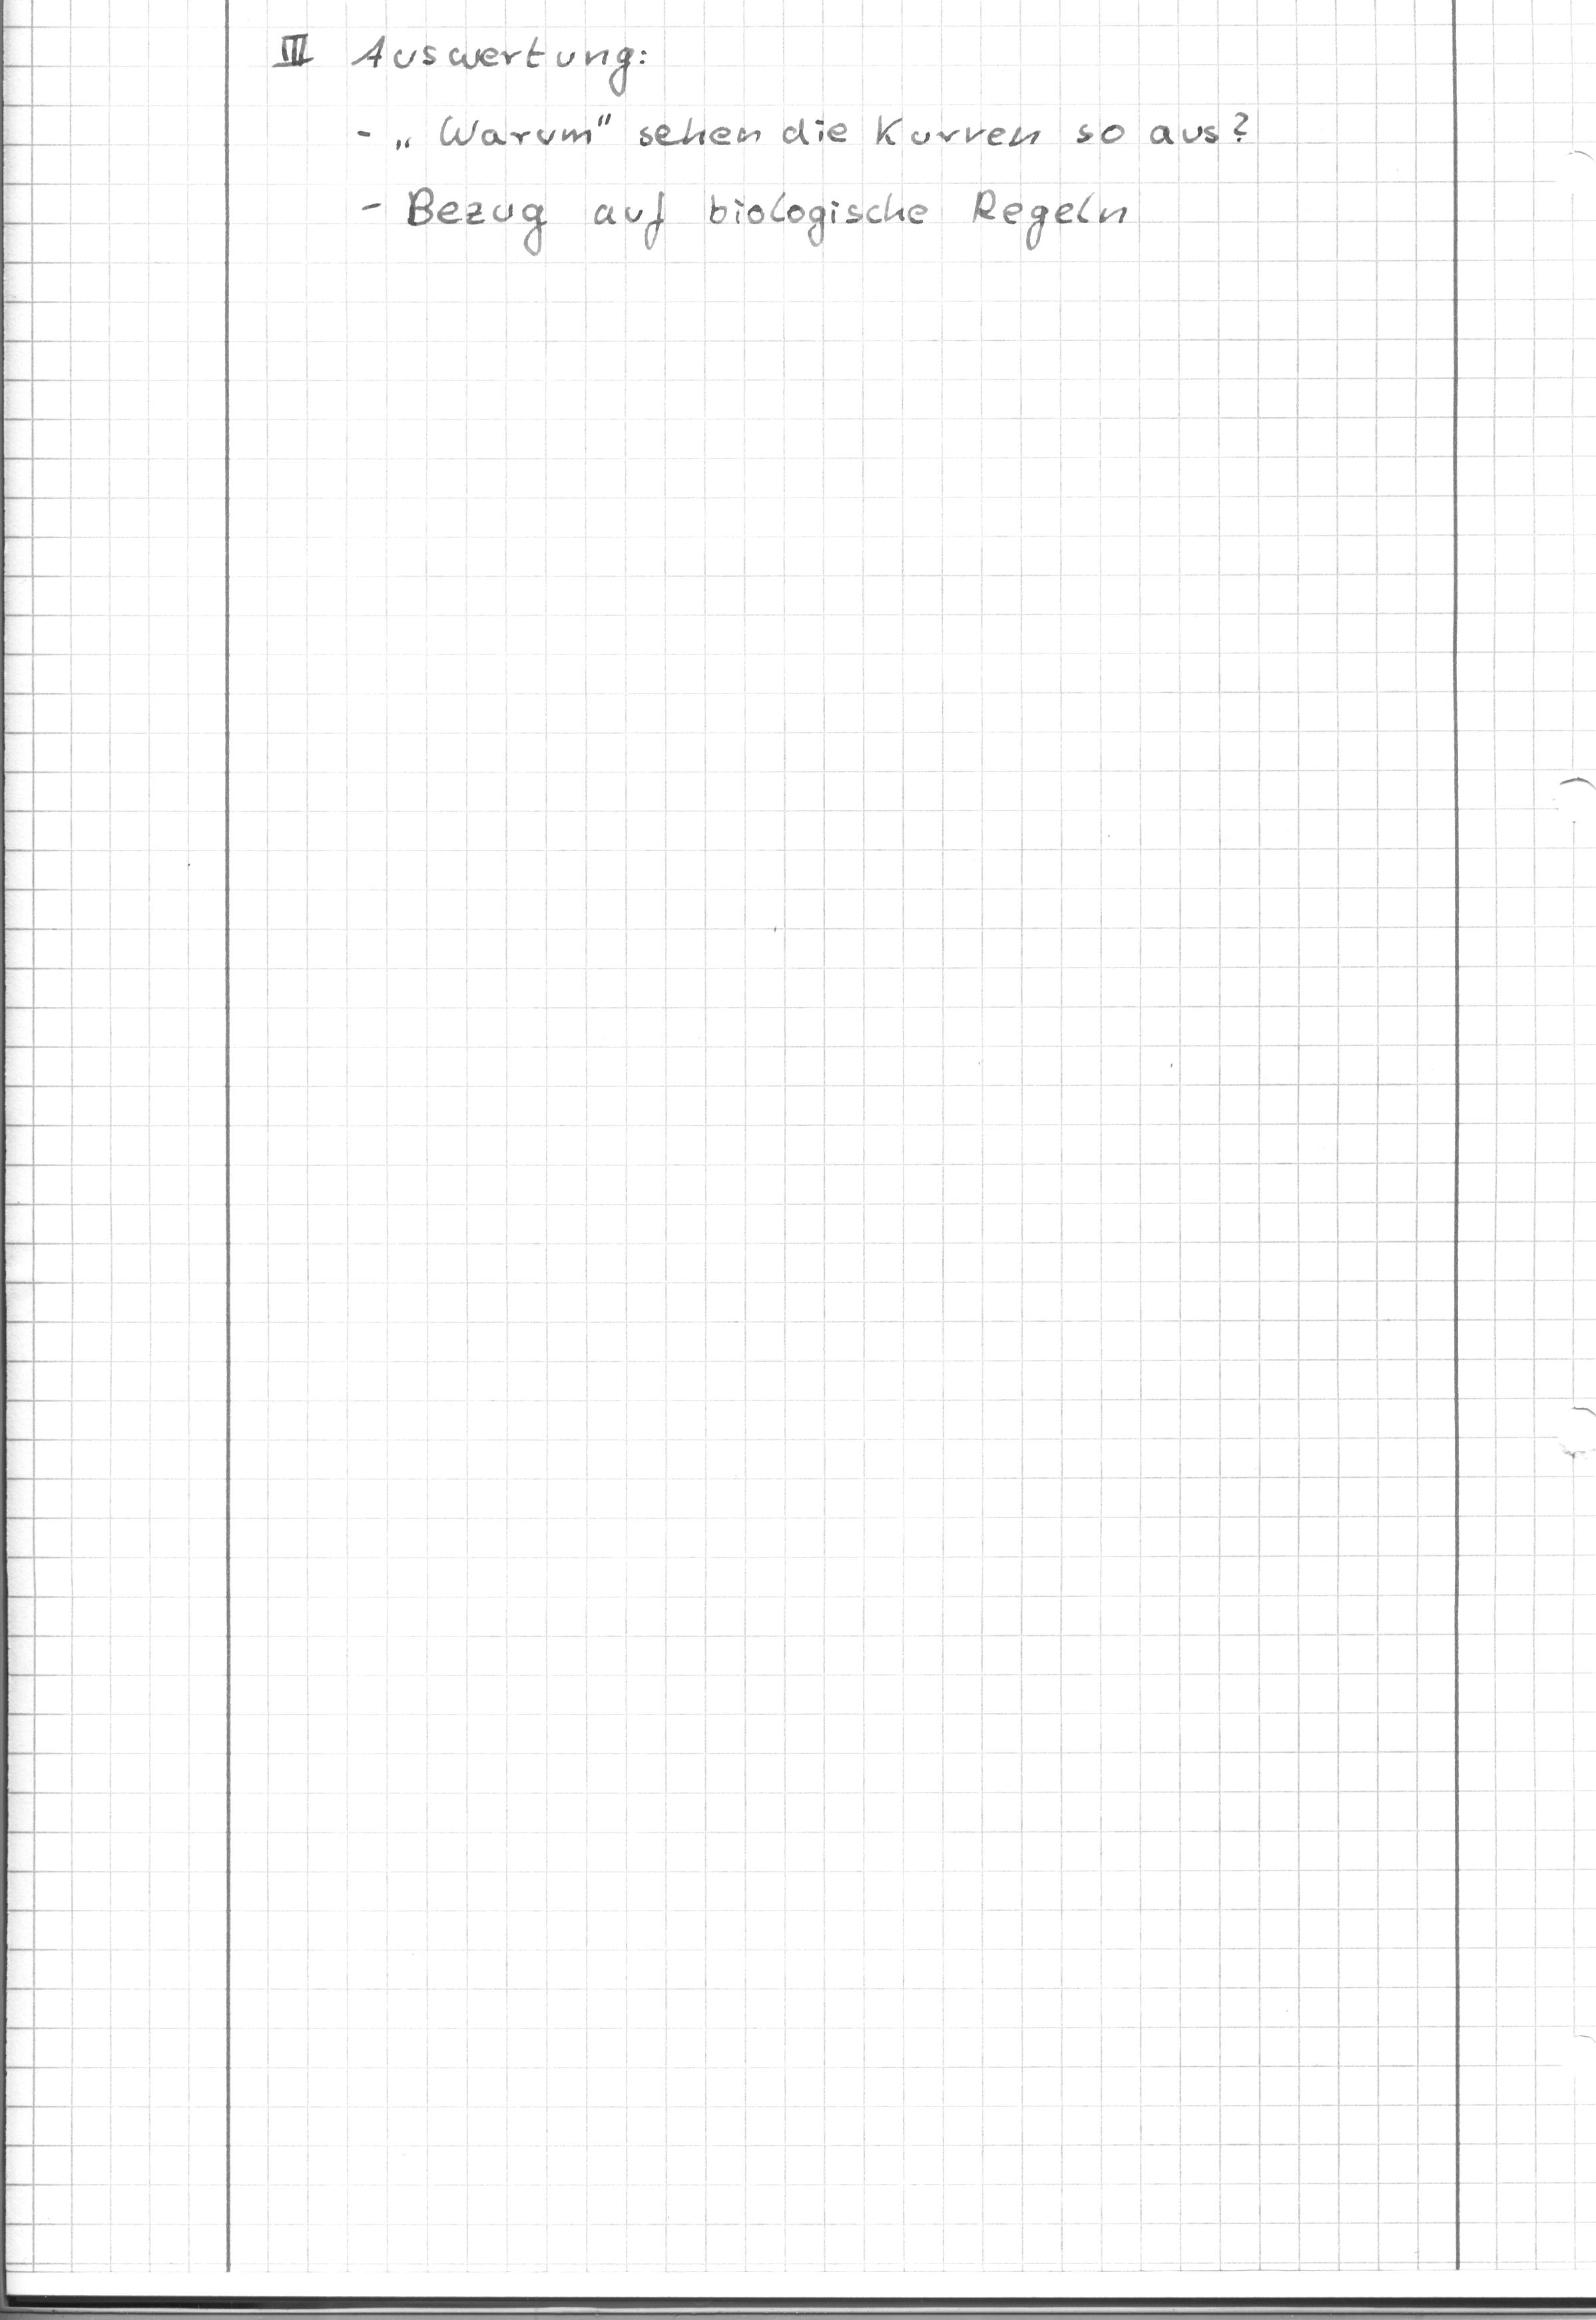word: (339, 98, 1272, 287), (262, 20, 663, 107)
